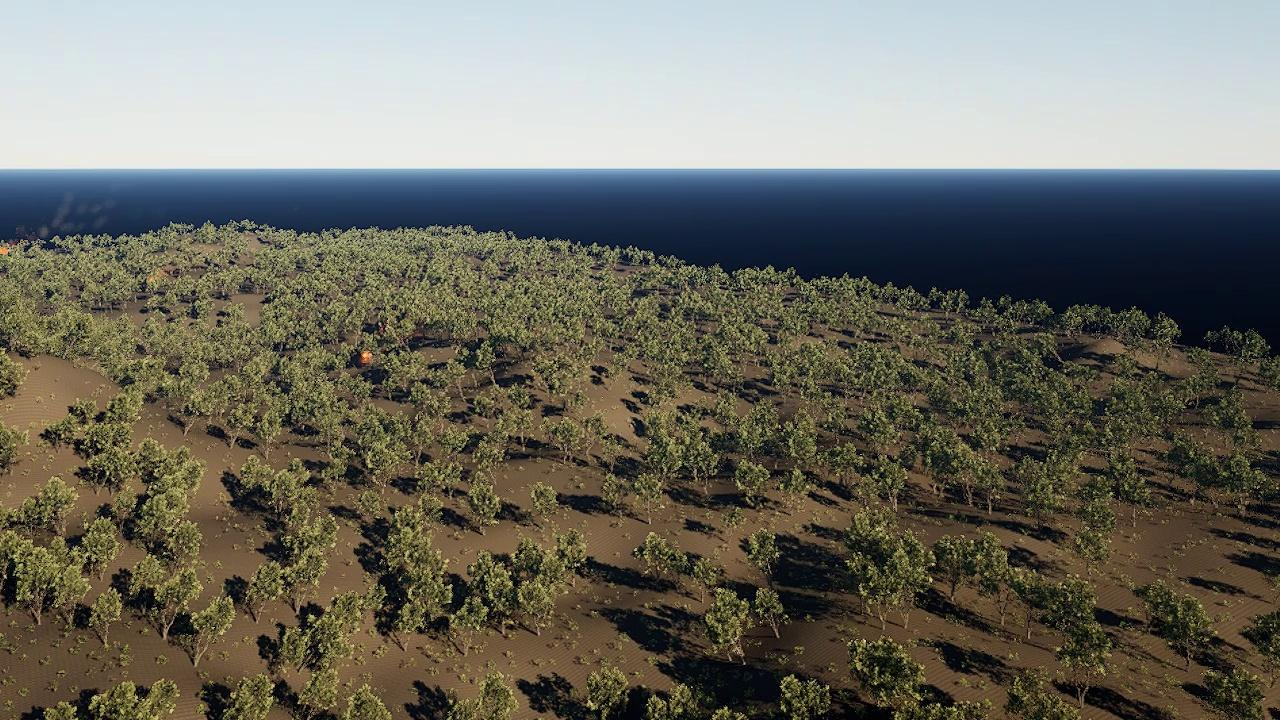fire: (359, 350, 373, 365), (0, 244, 11, 257)
smoke: (37, 190, 117, 235)
